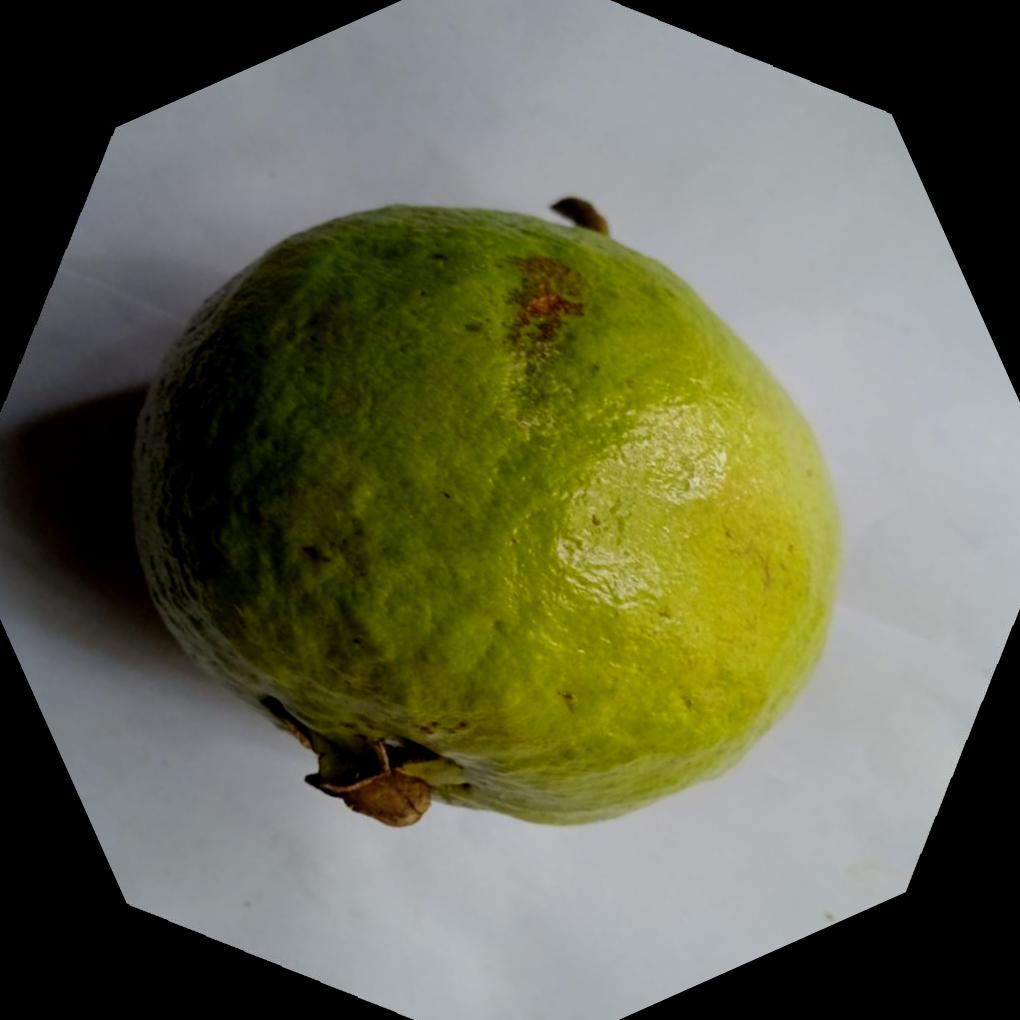FreshGuava: (128, 200, 847, 833)
